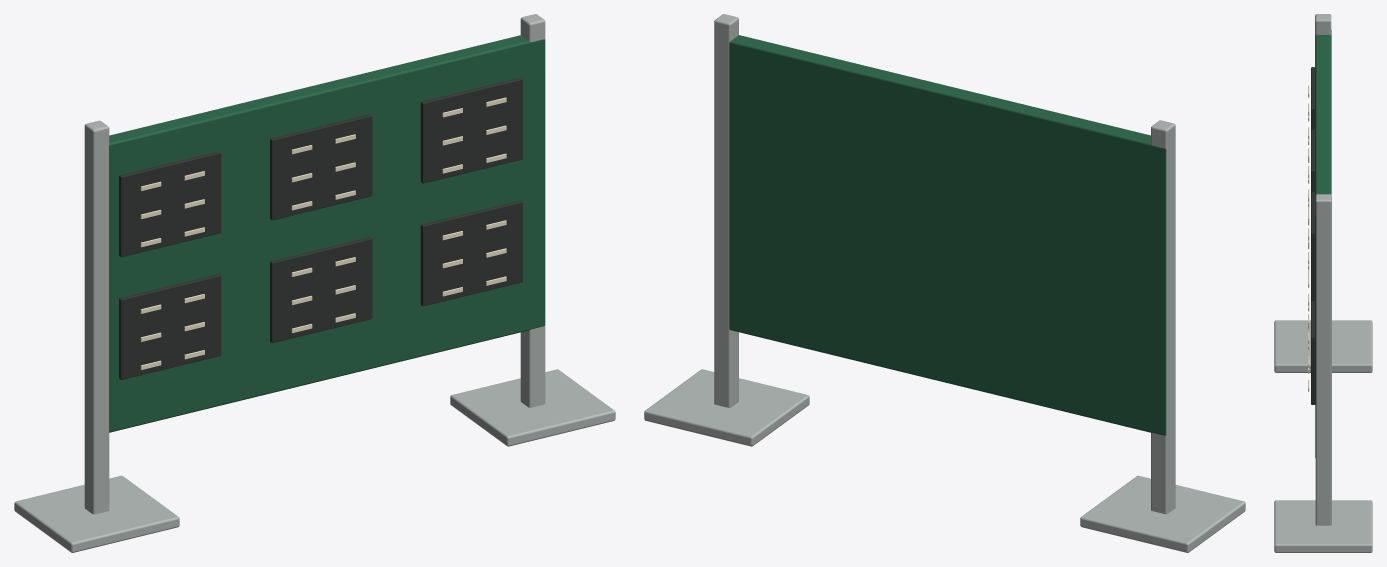
The model's file is cricket-ground-and-pavilion-manual-cricket-scoreboard-40081050__31351.glb.
3 renders of one model, left to right at view 1: azimuth 30°, elevation 25°; view 2: azimuth 150°, elevation 25°; view 3: azimuth 270°, elevation 25°, orthographic. The views are drawn at different scales.
Visible parts, largest first — view 1: manual-cricket-scoreboard; view 2: manual-cricket-scoreboard; view 3: manual-cricket-scoreboard.
Boxes of the visible parts, box(x1,y1,x2,y2) form: manual-cricket-scoreboard: box(14, 14, 615, 552); manual-cricket-scoreboard: box(644, 14, 1245, 552); manual-cricket-scoreboard: box(1274, 14, 1372, 552).
Bounding box in the file's own units: 3.25 × 2.25 × 0.5999.
